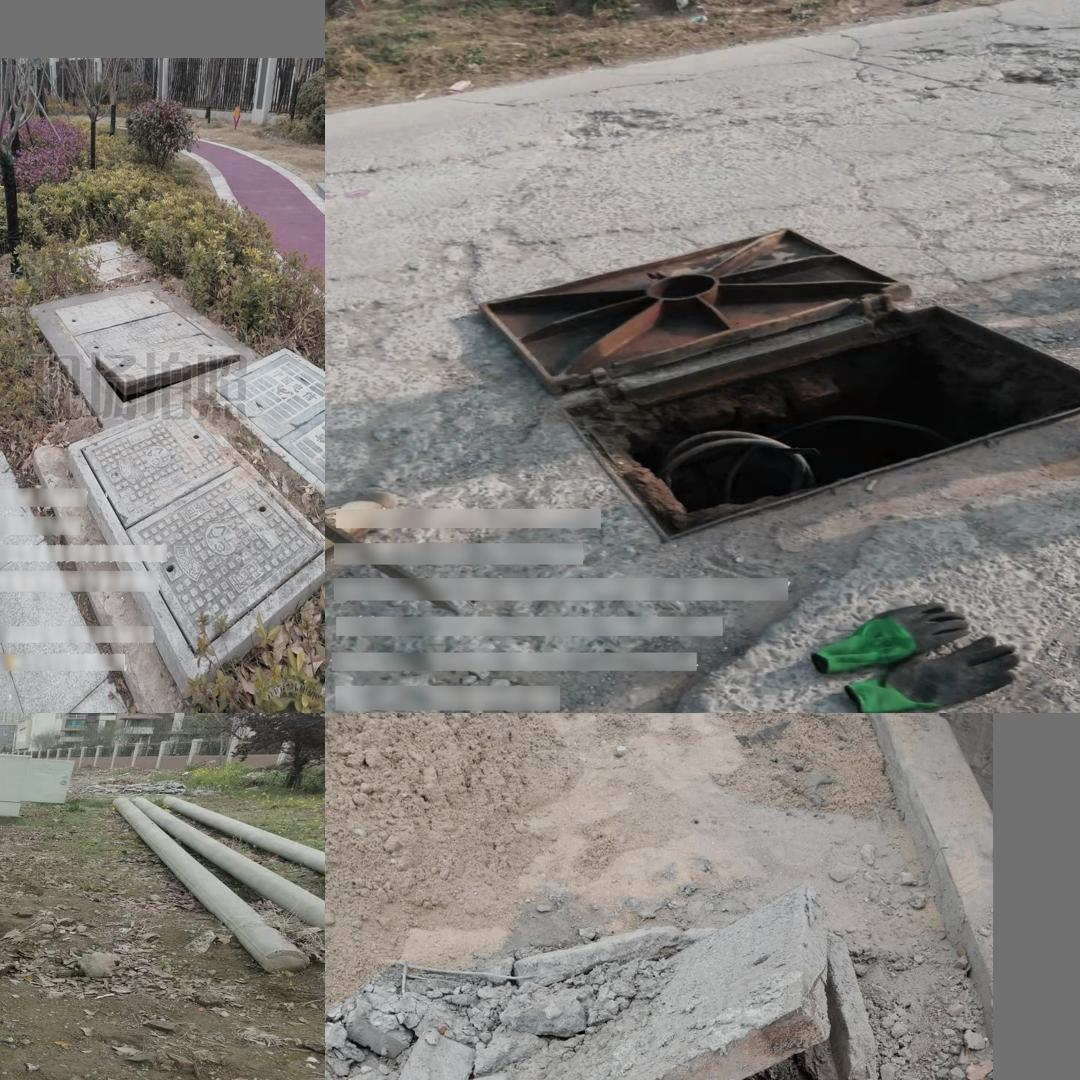good: (66, 397, 325, 694), (206, 347, 325, 496)
uncovered: (491, 231, 1080, 544), (392, 889, 930, 1080), (51, 286, 244, 408), (0, 939, 13, 985)
